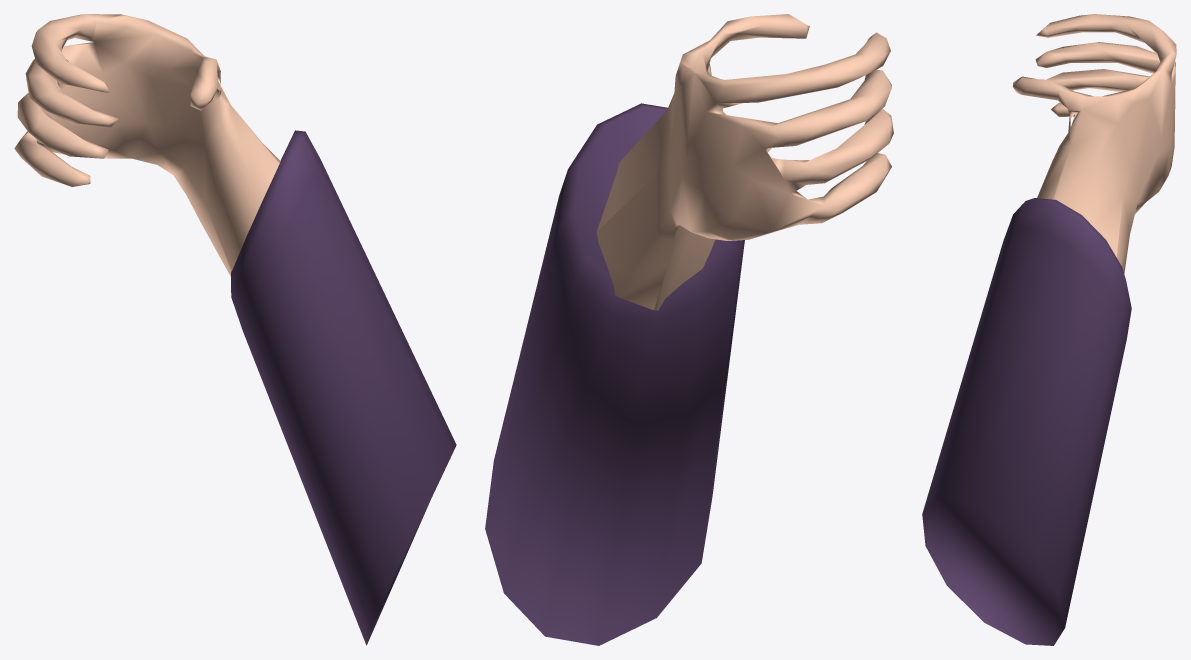
File: visitor-carry-hand.glb
3 renders of one model, left to right at view 1: azimuth 30°, elevation 25°; view 2: azimuth 150°, elevation 25°; view 3: azimuth 270°, elevation 25°, orthographic. The views are drawn at different scales.
Visible parts, largest first — view 1: SleeveCuff, ChibiGrip; view 2: SleeveCuff, ChibiGrip; view 3: SleeveCuff, ChibiGrip.
Boxes of the visible parts, box(x1,y1,x2,y2) form: SleeveCuff: box(231, 130, 456, 645); ChibiGrip: box(14, 14, 280, 276); SleeveCuff: box(485, 103, 744, 645); ChibiGrip: box(596, 14, 893, 310); SleeveCuff: box(922, 198, 1131, 645); ChibiGrip: box(1012, 14, 1176, 273).
Bounding box in the file's own units: 0.2511 × 0.3933 × 0.1751.
